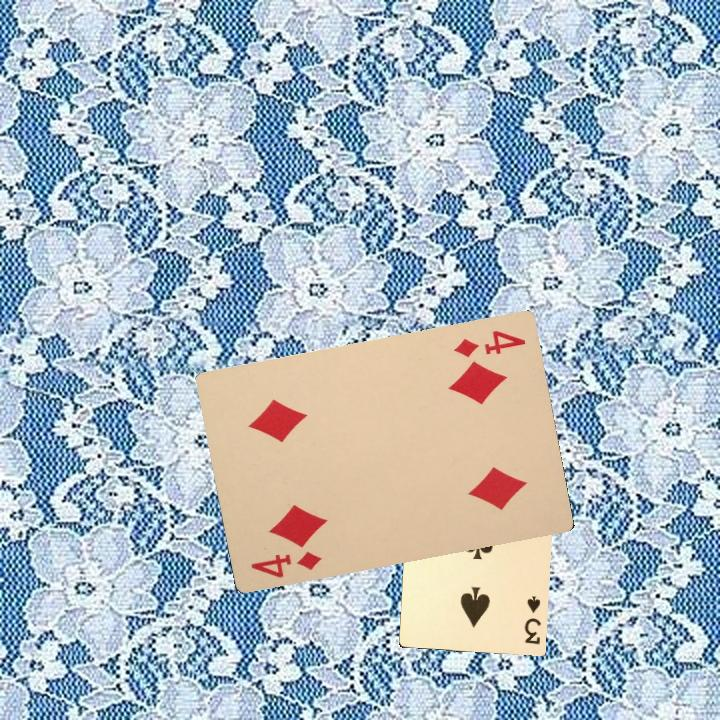3s: (520, 593, 544, 646)
4d: (449, 326, 529, 361), (246, 547, 324, 581)
